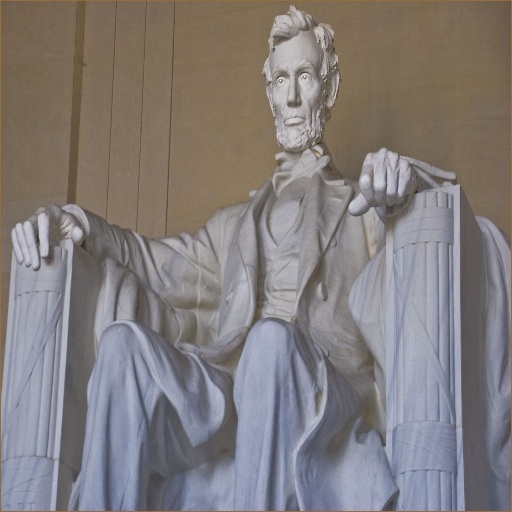hand: (9, 203, 85, 272), (356, 131, 399, 212)
